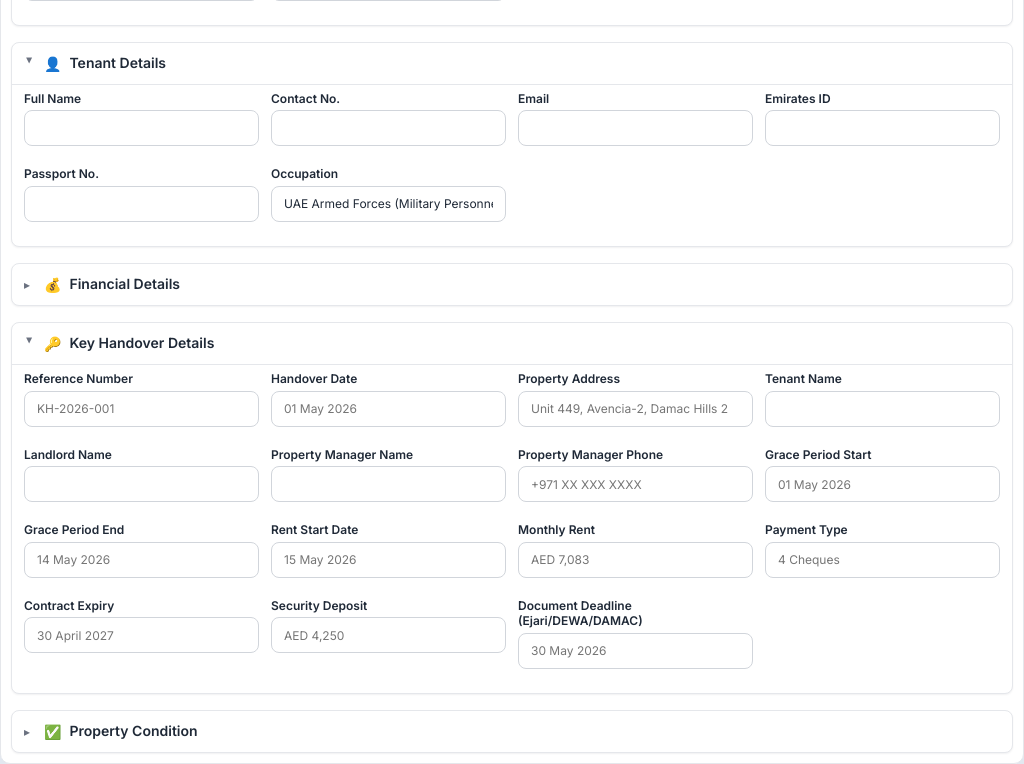
Test: DocumentWorkAreaForm › shows Property Condition section when activeTemplate is keyHandover and user opens it
The image size is (1024, 764).
(page scrolled)
Property Condition is not defaultOpen — click to expand
Click the button "▸ ✅ Property Condition" at (134, 731), box [12,711,1012,752]
(page scrolled)
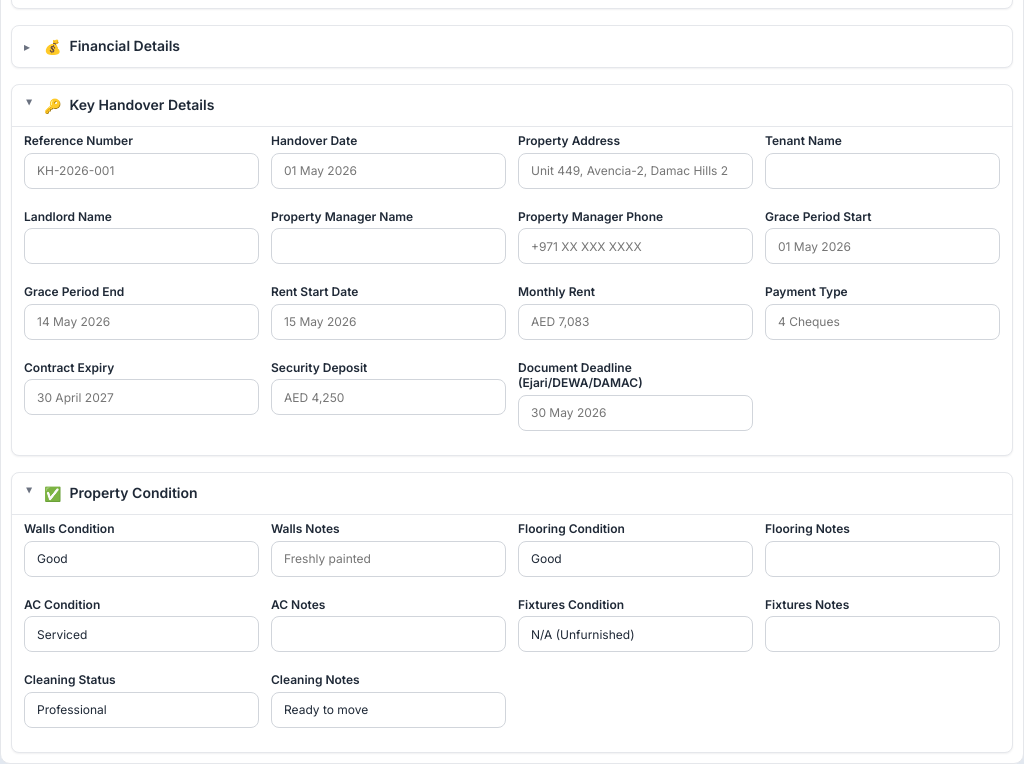
Check: the field labelled "Walls Condition" is shown, box [24,540,259,576]
Check: the field labelled "AC Condition" is shown, box [24,616,259,652]
Check: the field labelled "Cleaning Status" is shown, box [24,692,259,728]
